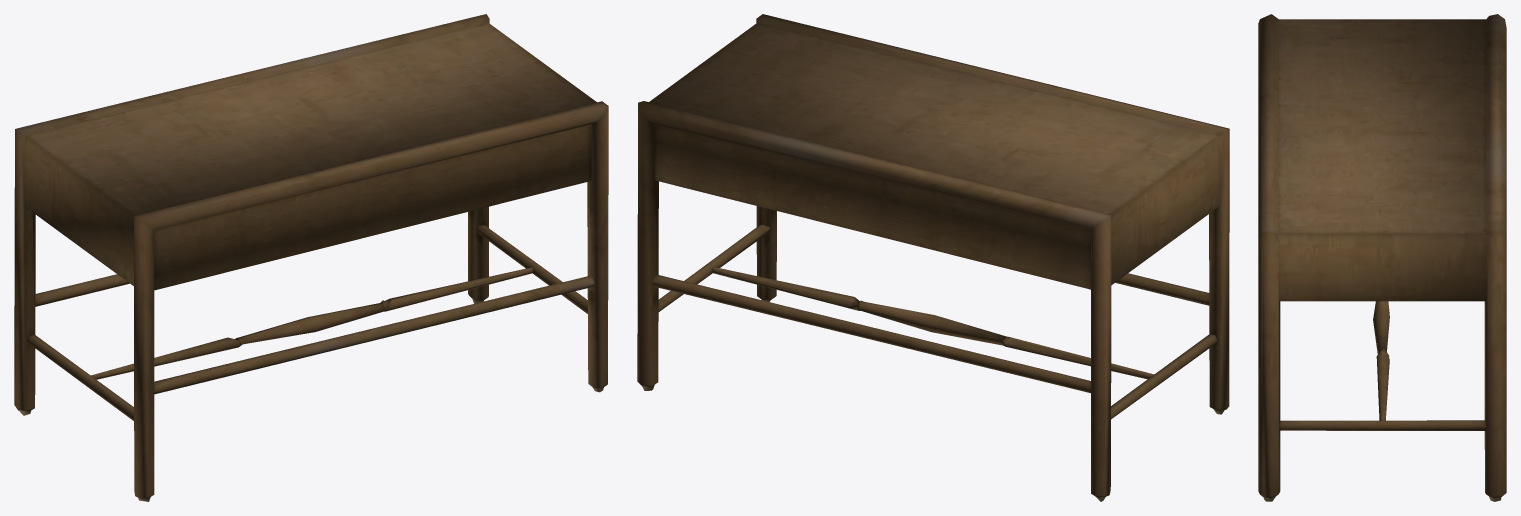
File: small_wooden_table_01.glb
3 views of the same model, side by side, from view 1: azimuth 30°, elevation 25°; view 2: azimuth 150°, elevation 25°; view 3: azimuth 270°, elevation 25° (orthographic). The views are drawn at different scales.
Visible parts, largest first — view 1: small_wooden_table_01; view 2: small_wooden_table_01; view 3: small_wooden_table_01.
Boxes of the visible parts, bbox=[...] form: small_wooden_table_01: bbox=[14, 14, 608, 501]; small_wooden_table_01: bbox=[637, 14, 1229, 501]; small_wooden_table_01: bbox=[1258, 14, 1506, 501].
Bounding box in the file's own units: 0.9162 × 0.5331 × 0.44.
1 material, 1 textured.
